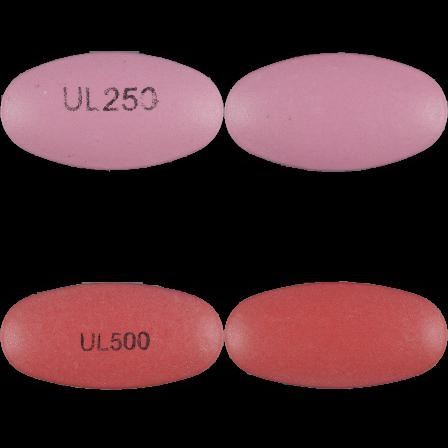63187-742: (0, 0, 224, 224)
